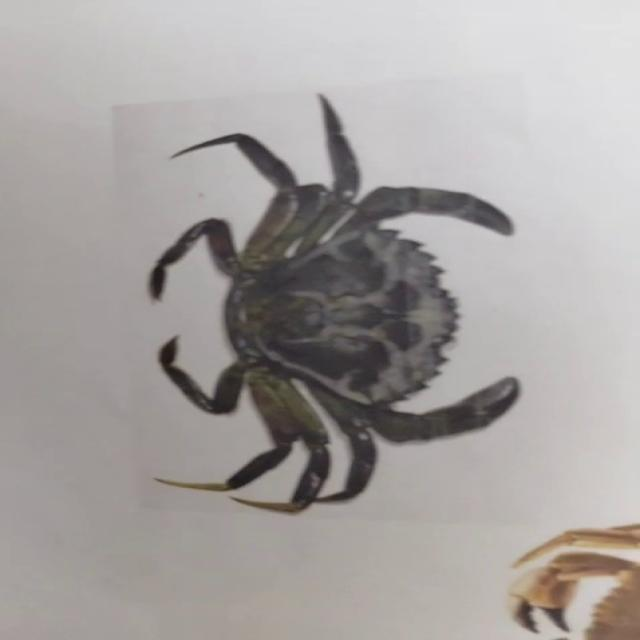egc: (149, 94, 518, 514)
